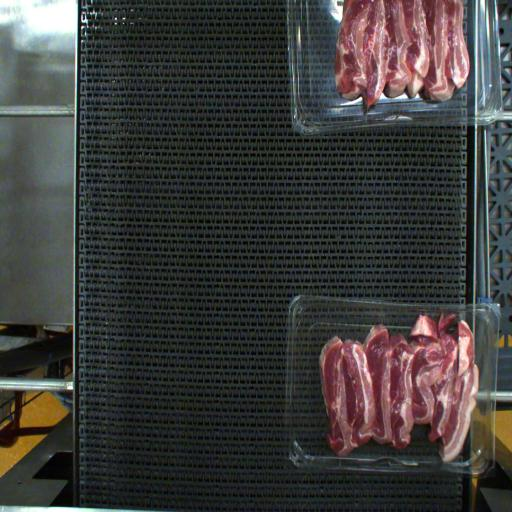twisted-meat: (416, 292, 460, 392)
